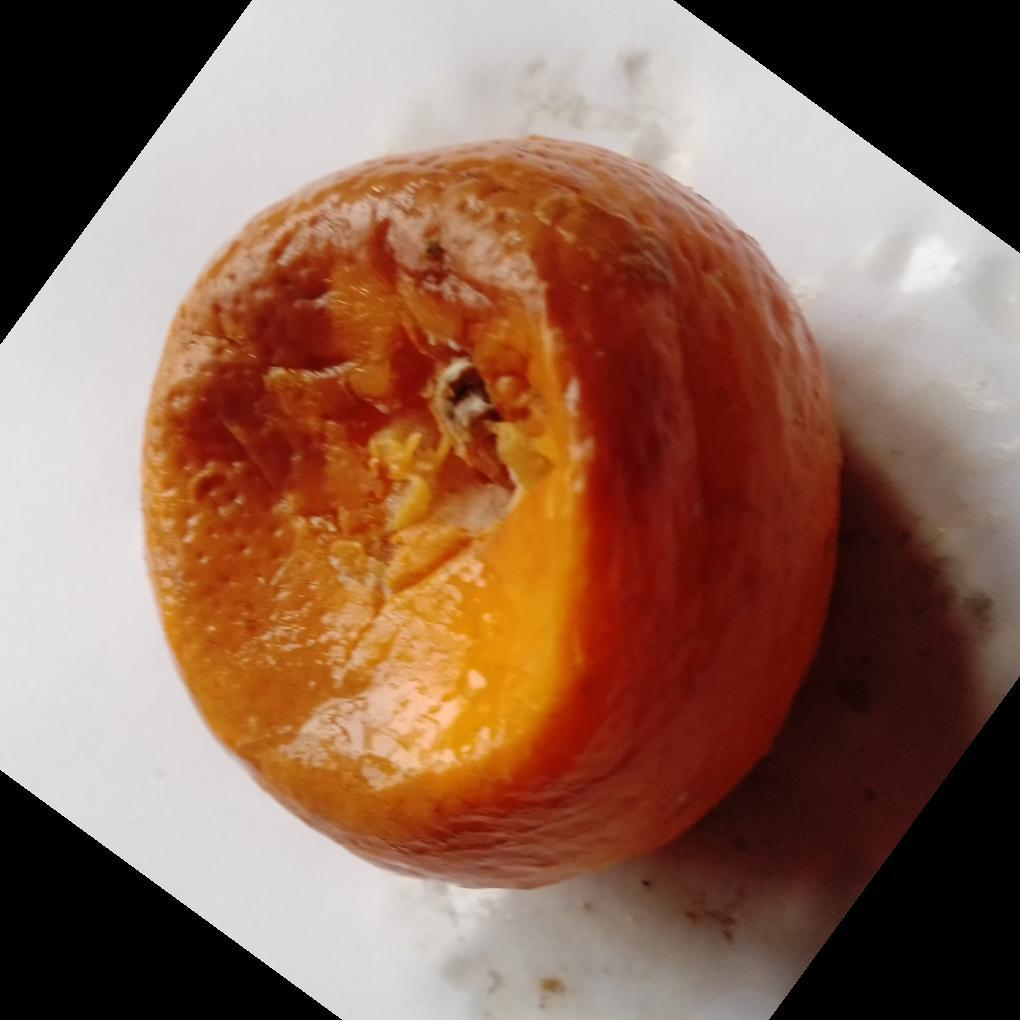FreshOrange: (137, 136, 845, 896)
